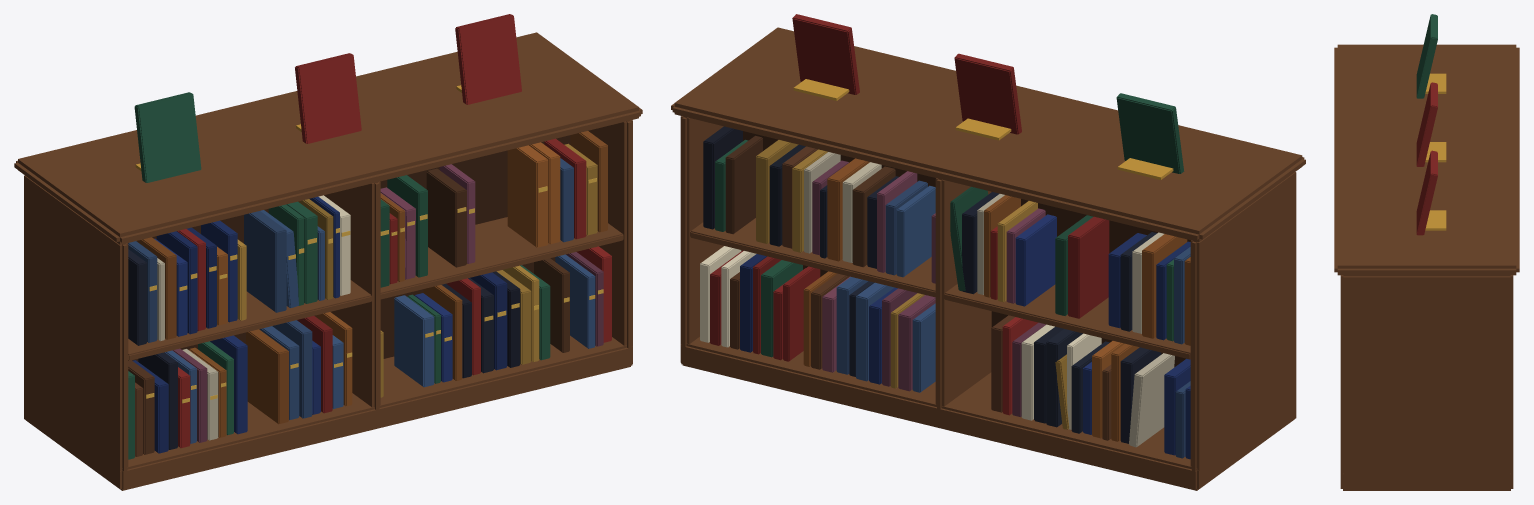
File: lowshelf.glb
3 renders of one model, left to right at view 1: azimuth 30°, elevation 25°; view 2: azimuth 150°, elevation 25°; view 3: azimuth 270°, elevation 25°, orthographic. The views are drawn at different scales.
Parts seen in each view (by area): view 1: lowshelf_wood, lowshelf_books, lowshelf_wood_dark, lowshelf_gold_leaf; view 2: lowshelf_wood, lowshelf_books, lowshelf_wood_dark, lowshelf_brass; view 3: lowshelf_wood, lowshelf_books, lowshelf_brass.
Part boxes in pixels (bbox=[...]): lowshelf_wood: bbox=[14, 32, 642, 490]; lowshelf_books: bbox=[128, 14, 611, 459]; lowshelf_wood_dark: bbox=[132, 135, 570, 361]; lowshelf_gold_leaf: bbox=[146, 178, 603, 403]; lowshelf_wood: bbox=[671, 27, 1305, 490]; lowshelf_books: bbox=[700, 14, 1190, 459]; lowshelf_wood_dark: bbox=[741, 131, 1190, 367]; lowshelf_brass: bbox=[793, 79, 1173, 179]; lowshelf_wood: bbox=[1334, 44, 1519, 490]; lowshelf_books: bbox=[1416, 14, 1437, 235]; lowshelf_brass: bbox=[1425, 73, 1446, 230].
Bounding box in the file's own units: 2.46 × 1.48 × 0.86.
